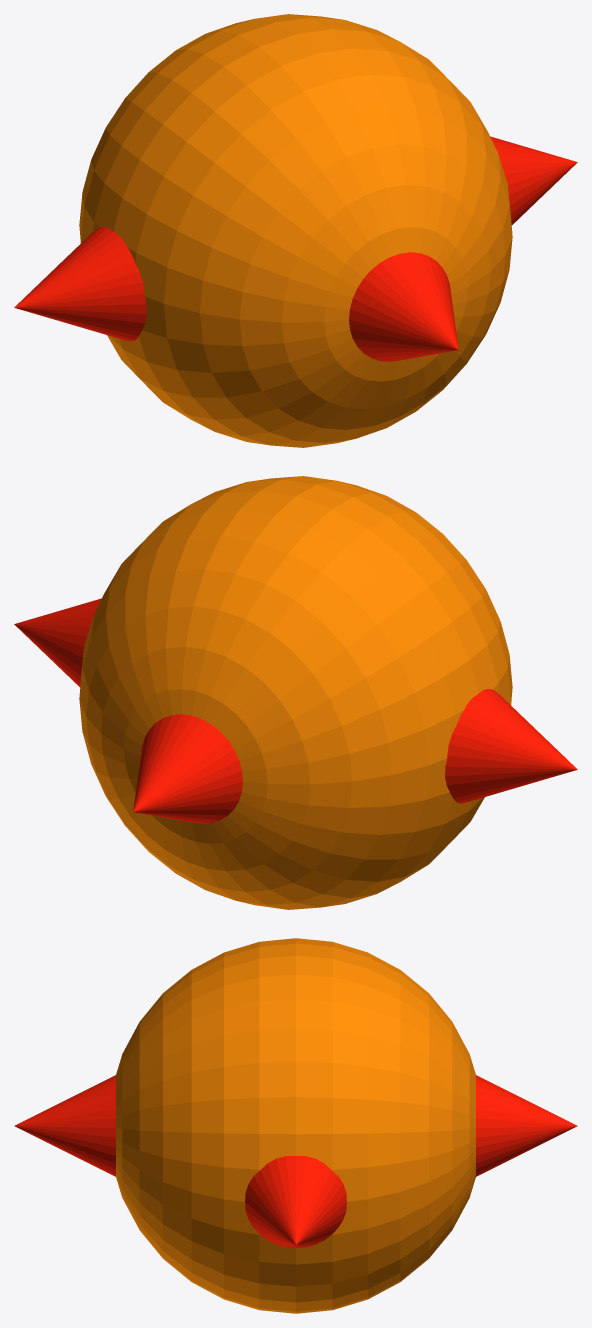
Rendered from test_explosion.fbx.
3 views of the same model, one above another, from view 1: azimuth 30°, elevation 25°; view 2: azimuth 150°, elevation 25°; view 3: azimuth 270°, elevation 25° (orthographic). The views are drawn at different scales.
Parts seen in each view (by area): view 1: 円錐.002; view 2: 円錐.002; view 3: 円錐.002.
Boxes of the visible parts, <box> form: 円錐.002: <box>14,14,577,447</box>; 円錐.002: <box>14,476,577,909</box>; 円錐.002: <box>14,938,577,1313</box>.
Size of the model in its own units: 150 by 100 by 150.
Materials: 2 (2 with a texture image).
